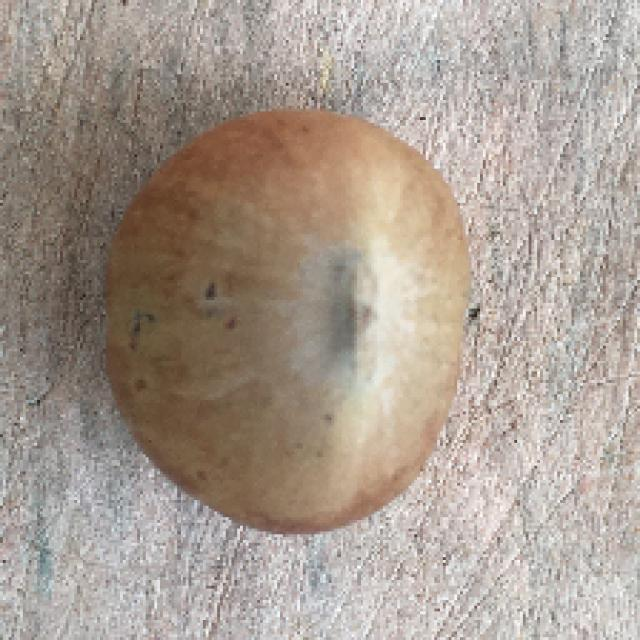damagedHazelnut: (103, 96, 473, 552)
